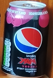pepsi: (4, 1, 49, 77)
